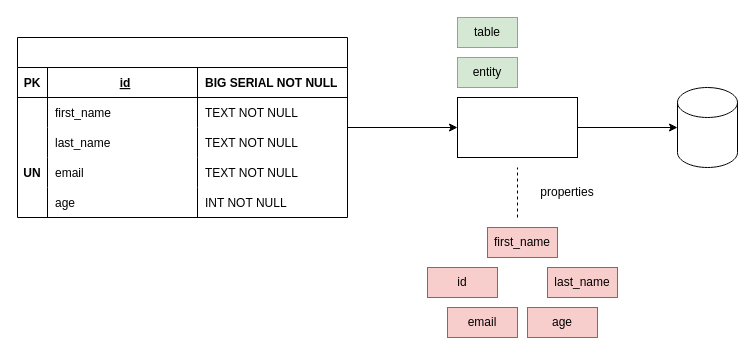
Image size: 755x355. Some labels were removed from this diagram. The box of each missing label's shape, as (x1, y1, x2, y2) in pixels:
student: (16, 36, 348, 218)
Student.java: (456, 96, 578, 158)
